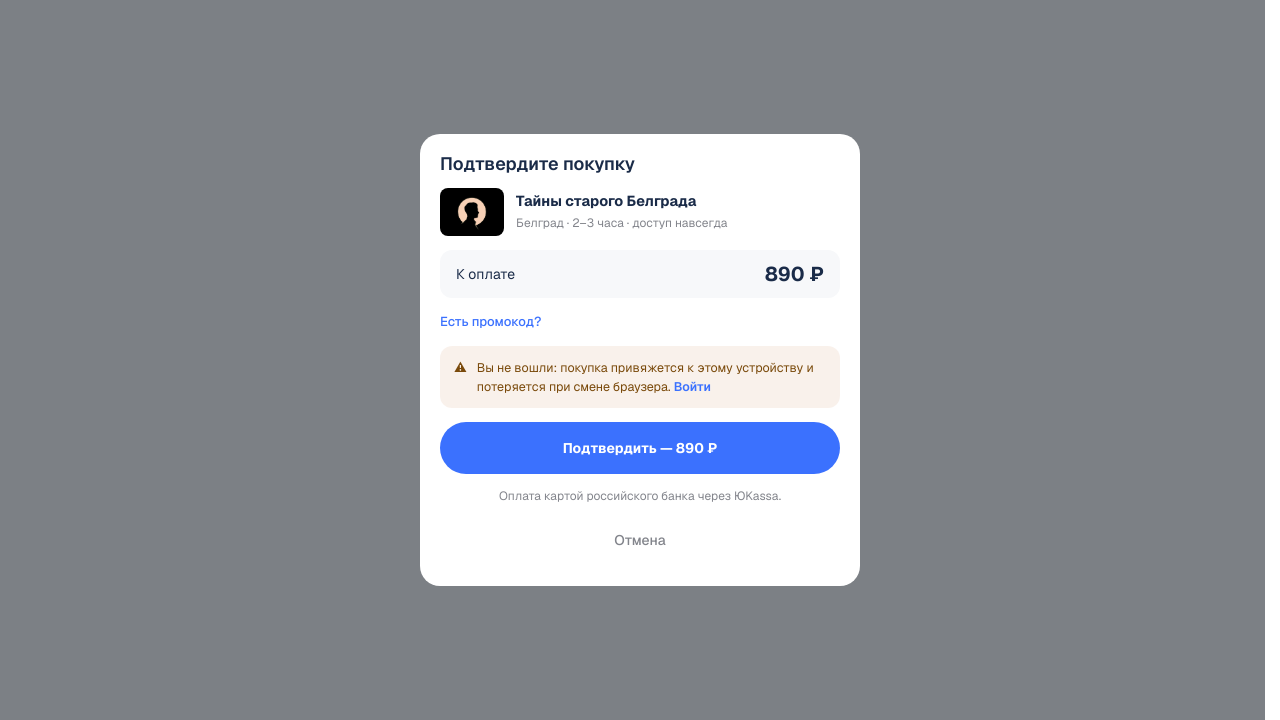
Test: PurchaseSheet › shows the backend message for a rejected code and keeps the full price
Click the button "Есть промокод?".
click(491, 322)  # box [440,312,541,332]
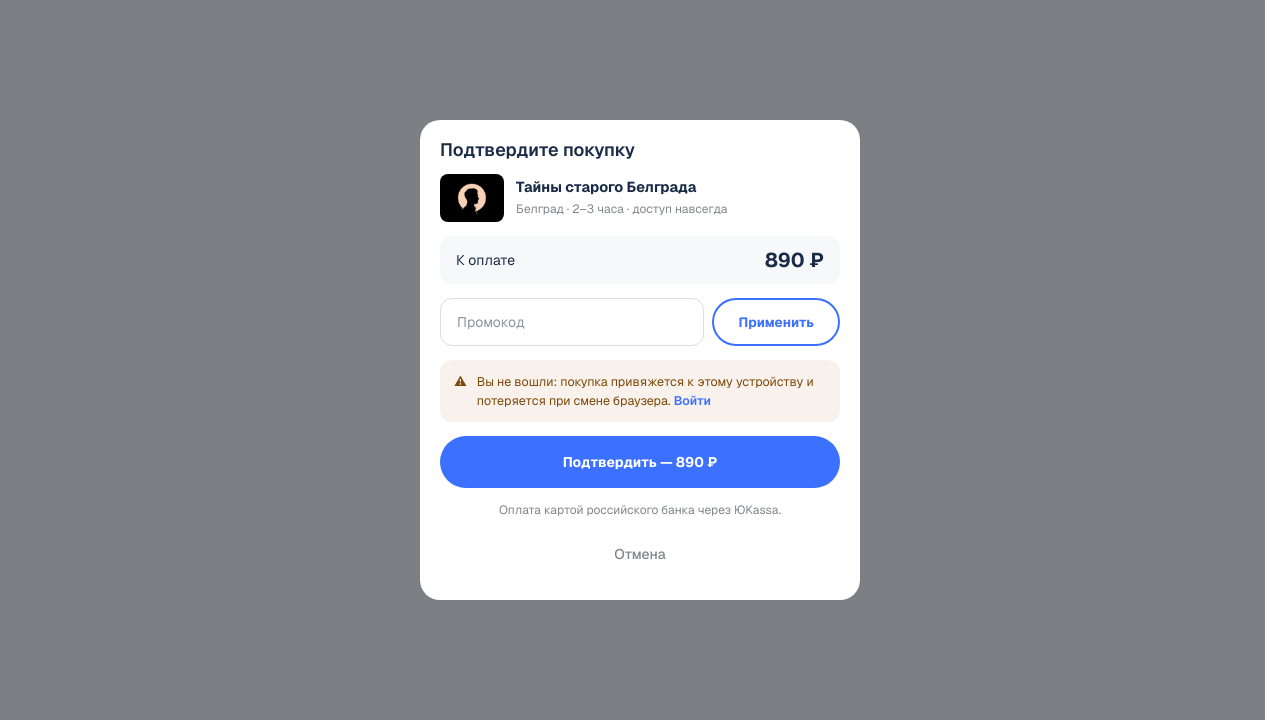
Type "OLD-10" into the field with placeholder "Промокод".
click(572, 322); type("OLD-10")  # box [440,298,704,346]
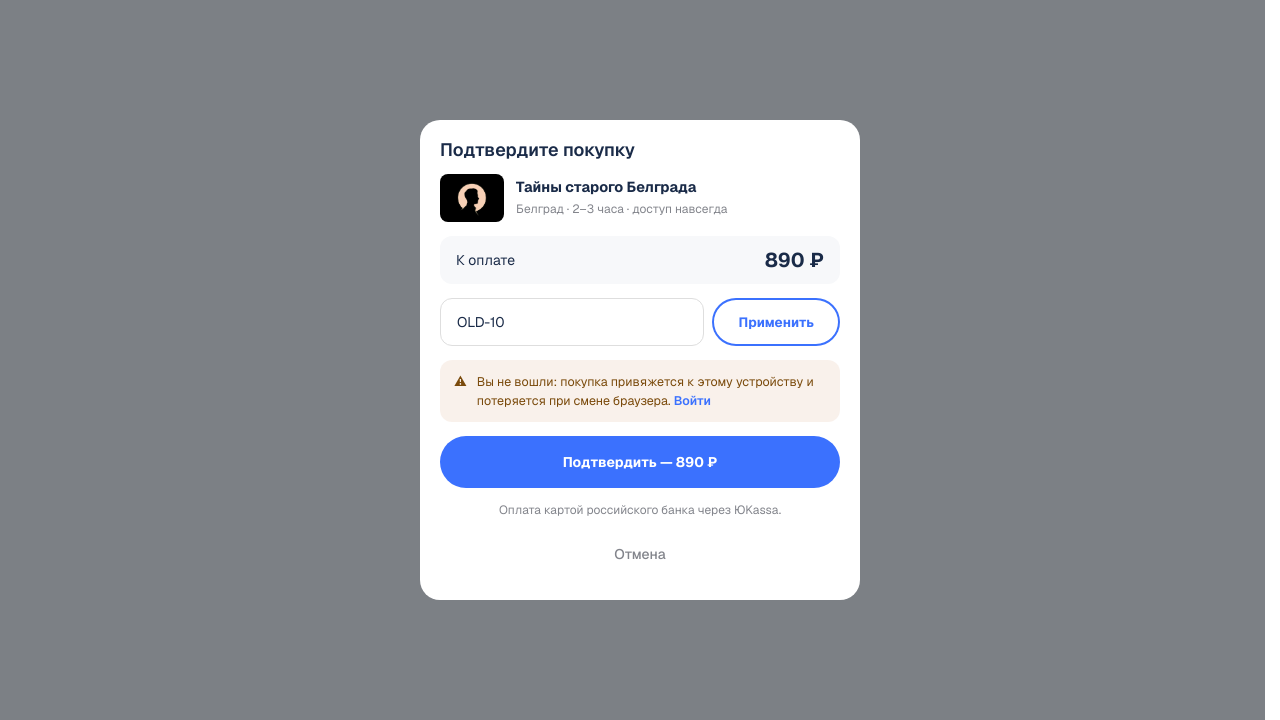
Click the button "Применить".
click(776, 322)  # box [712,298,840,346]
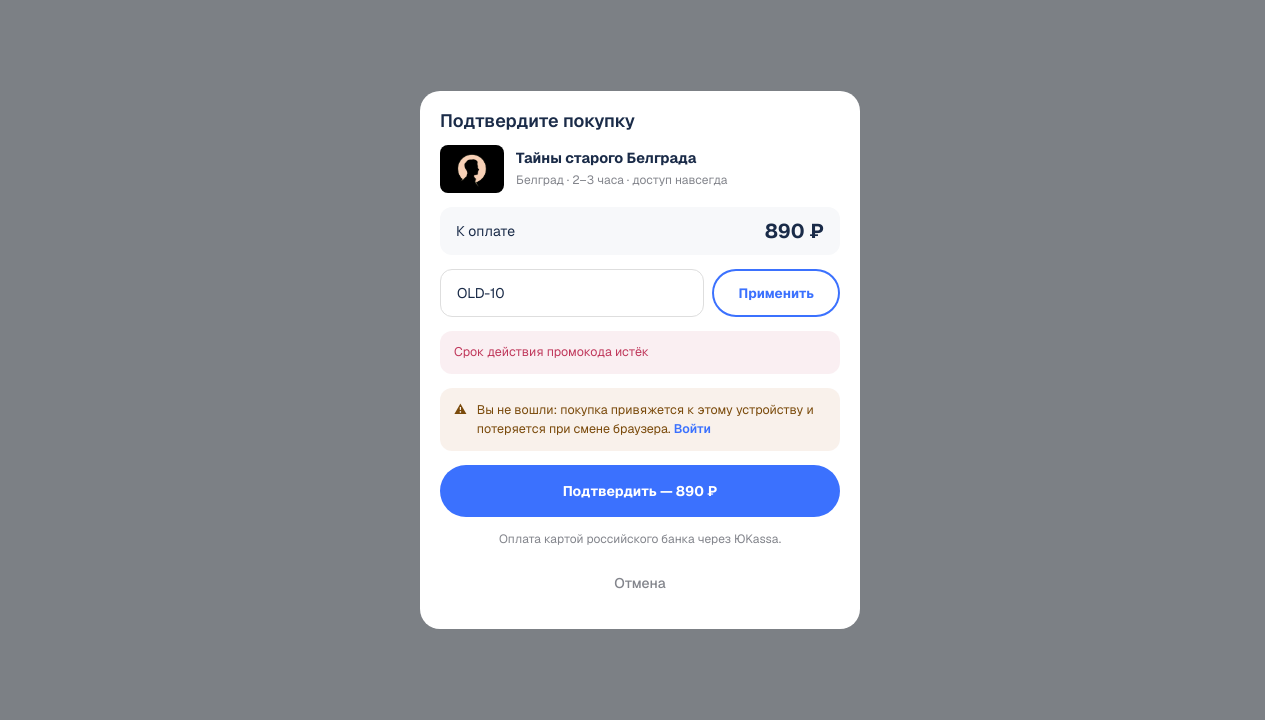
Expected: the button "Подтвердить — 890 ₽" is shown, [440,465,840,517]
Result: the text "Срок действия промокода истёк" is shown at [440,331,840,374]
